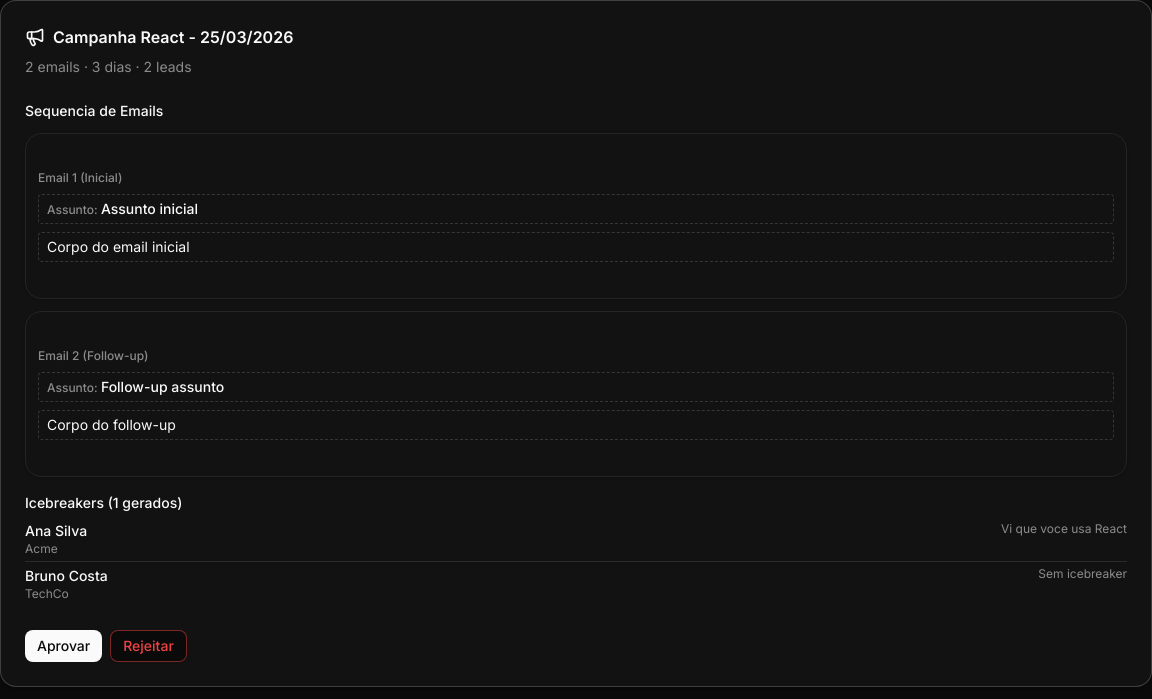
Test case: AgentCampaignPreview (AC: #1, #2, #3) › opens textarea when clicking on body text
Click the text with test id "email-body-0" at [576, 247], box [38, 232, 1114, 262]
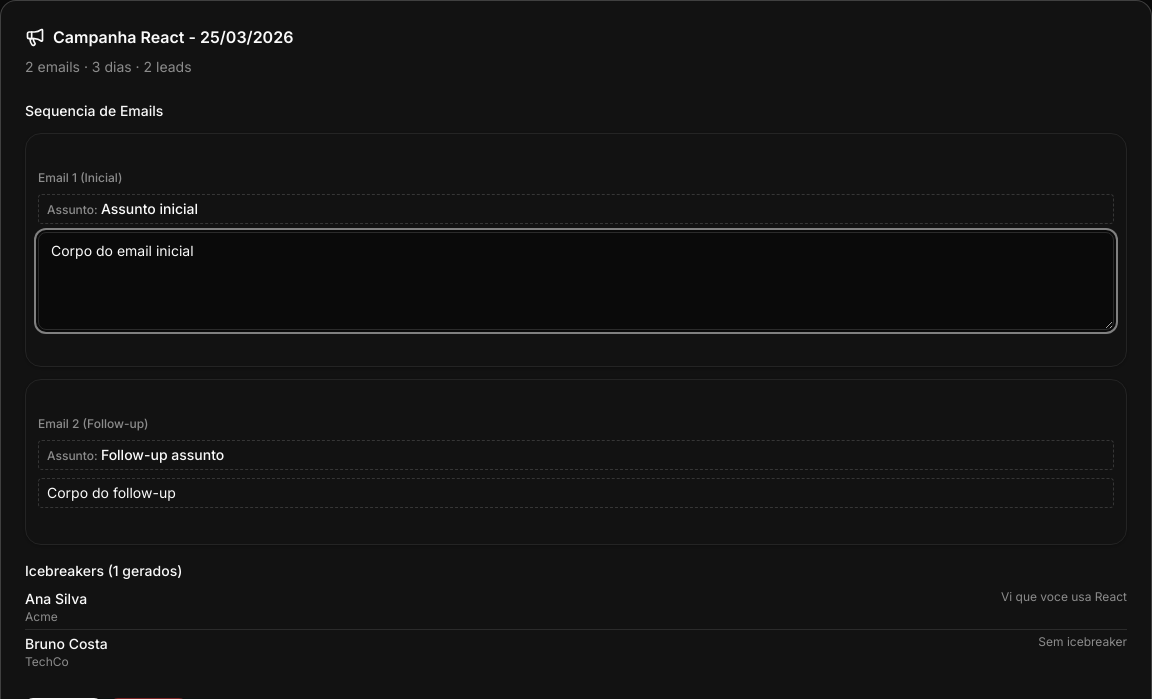
Expected: the text box with test id "email-body-input-0" is shown, [38, 232, 1114, 330]
